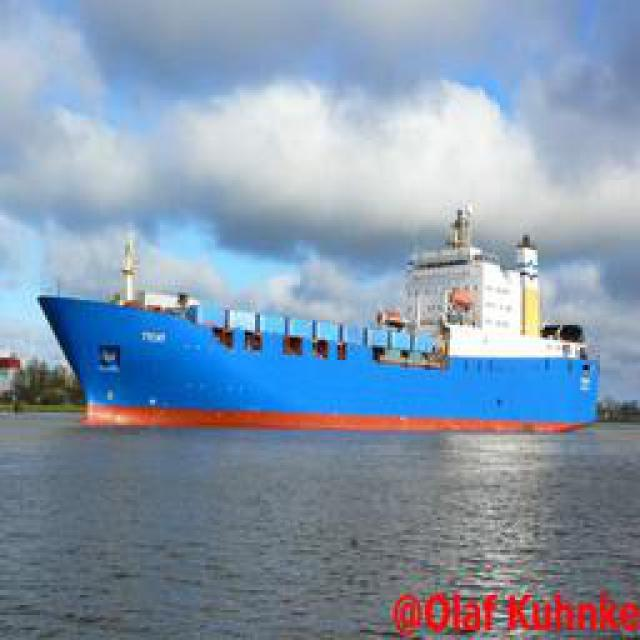Ship: (33, 195, 602, 437)
